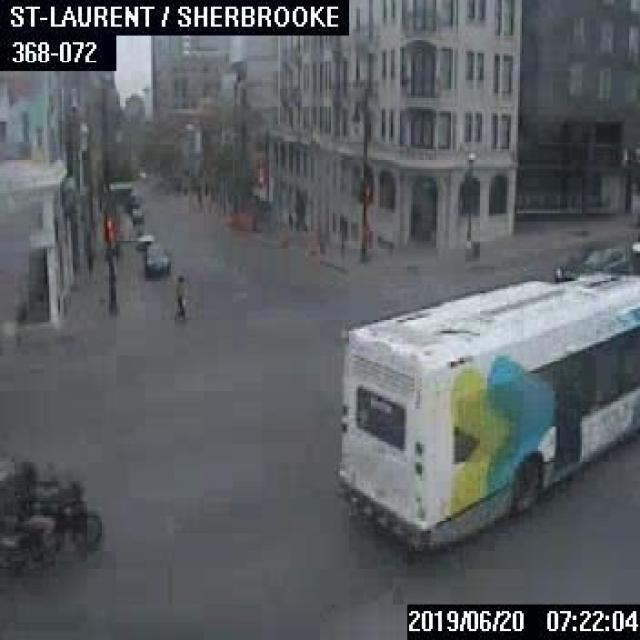bus: (333, 272, 638, 550)
pedestrian: (171, 273, 189, 318)
vehicle: (0, 451, 100, 582), (553, 242, 626, 278), (143, 242, 171, 276), (134, 229, 150, 249)
